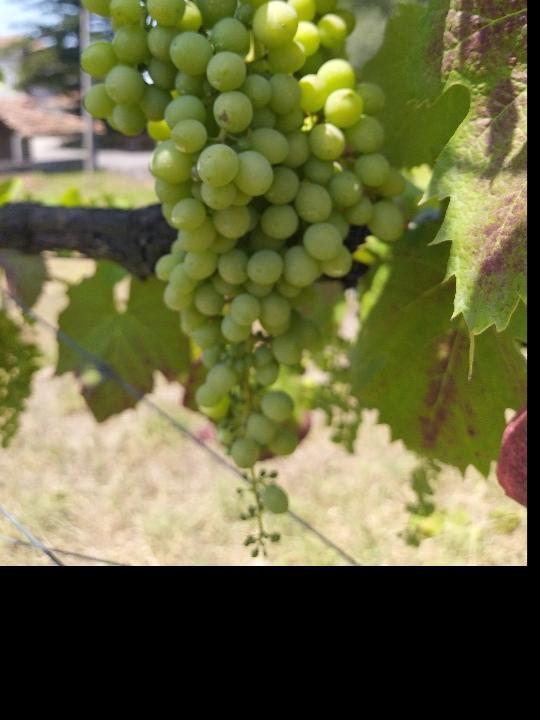grape: (76, 0, 408, 562)
